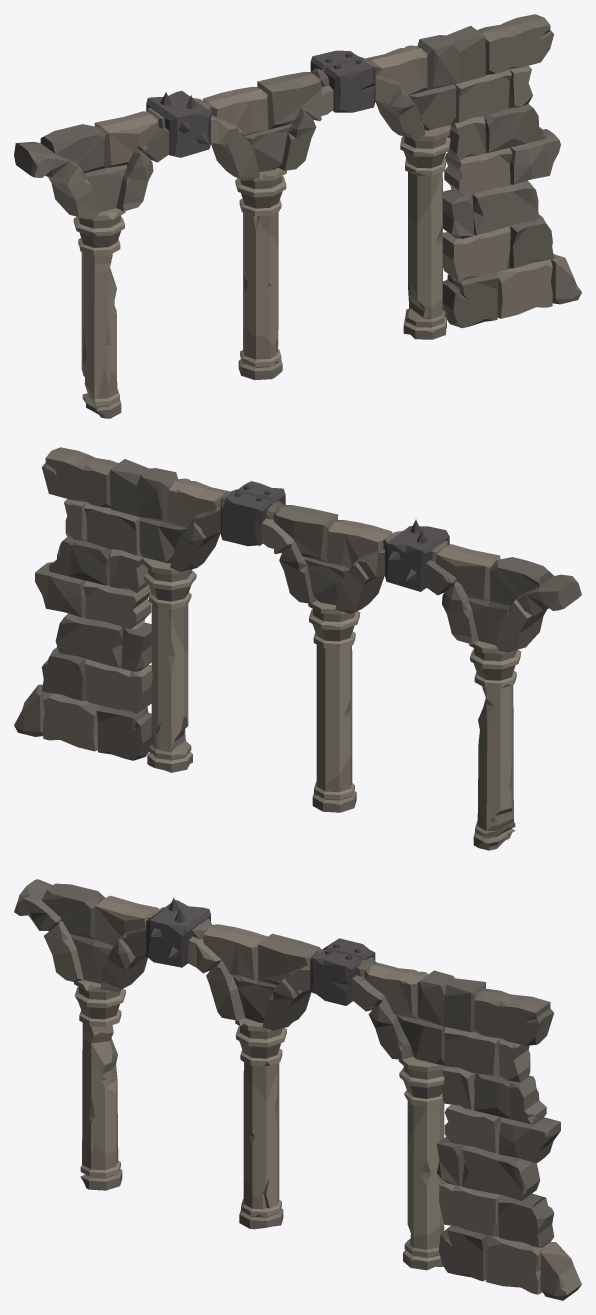
File: bog_ruins_arch.gltf
The picture shows the model from 3 angles, top to bottom: view 1: azimuth 30°, elevation 25°; view 2: azimuth 150°, elevation 25°; view 3: azimuth 330°, elevation 25°; orthographic projection.
Parts seen in each view (by area): view 1: bog_ruins_arch; view 2: bog_ruins_arch; view 3: bog_ruins_arch.
Part boxes in pixels (bbox=[...]): bog_ruins_arch: bbox=[14, 14, 581, 418]; bog_ruins_arch: bbox=[14, 447, 581, 850]; bog_ruins_arch: bbox=[14, 879, 581, 1300].
Size of the model in its own units: 7.76 by 4.02 by 1.02.
Materials: 1 (1 with a texture image).
